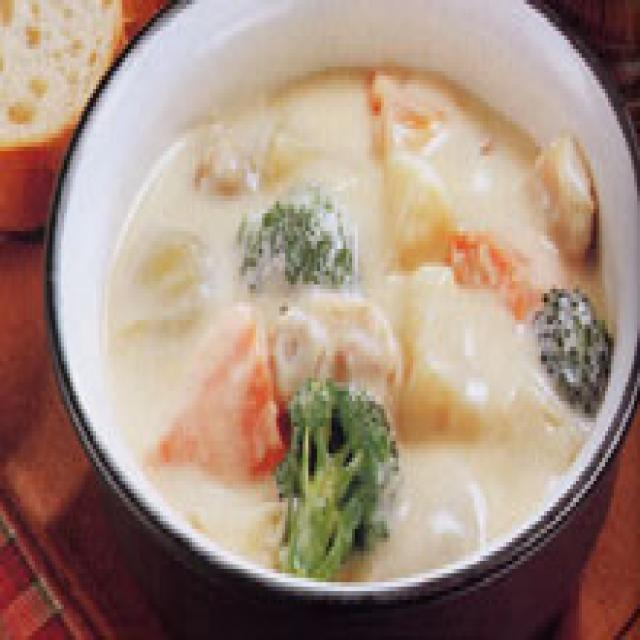汤锅炖物: (35, 0, 640, 604)
